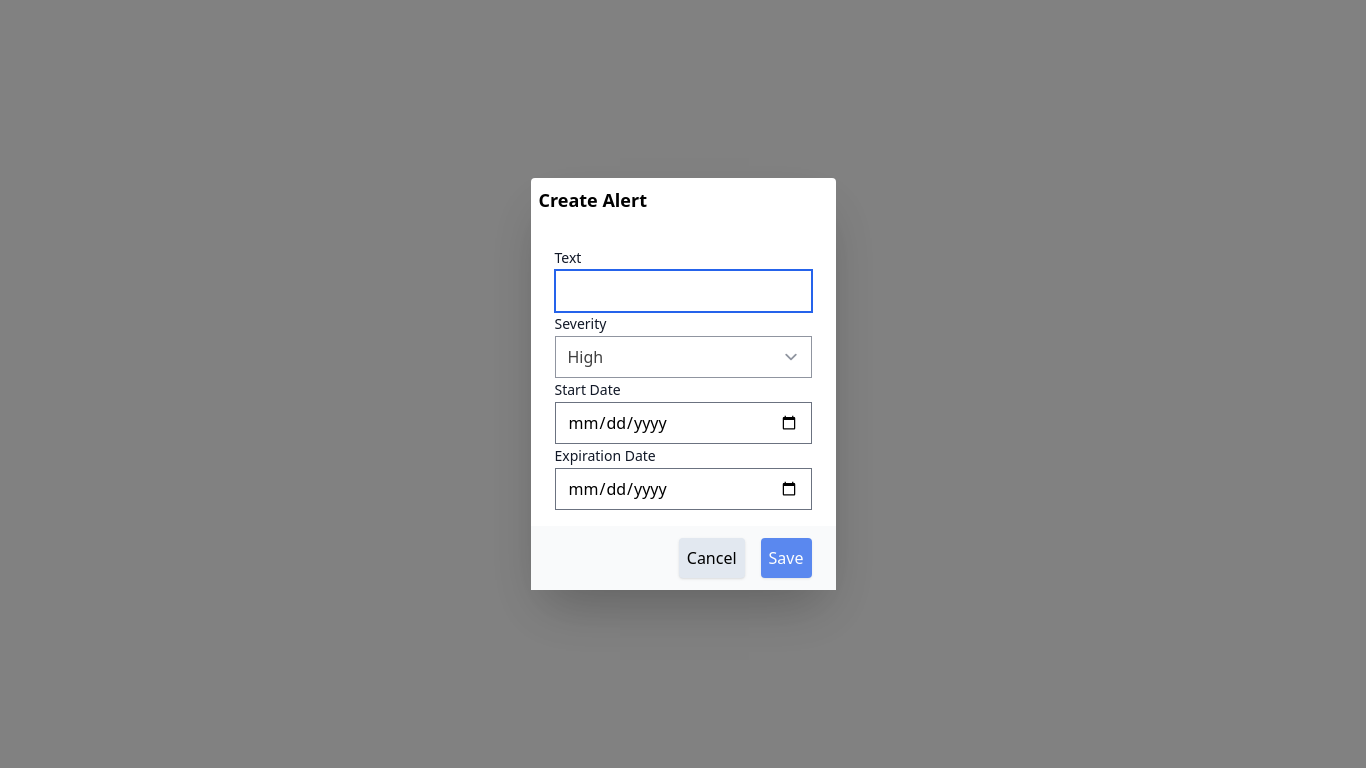
Test: CreateAlertModal › when saving the form is disabled
The width and height of the screenshot is (1366, 768).
In the field named "text": (683, 291) [554,270,812,312], type "fields are closed"
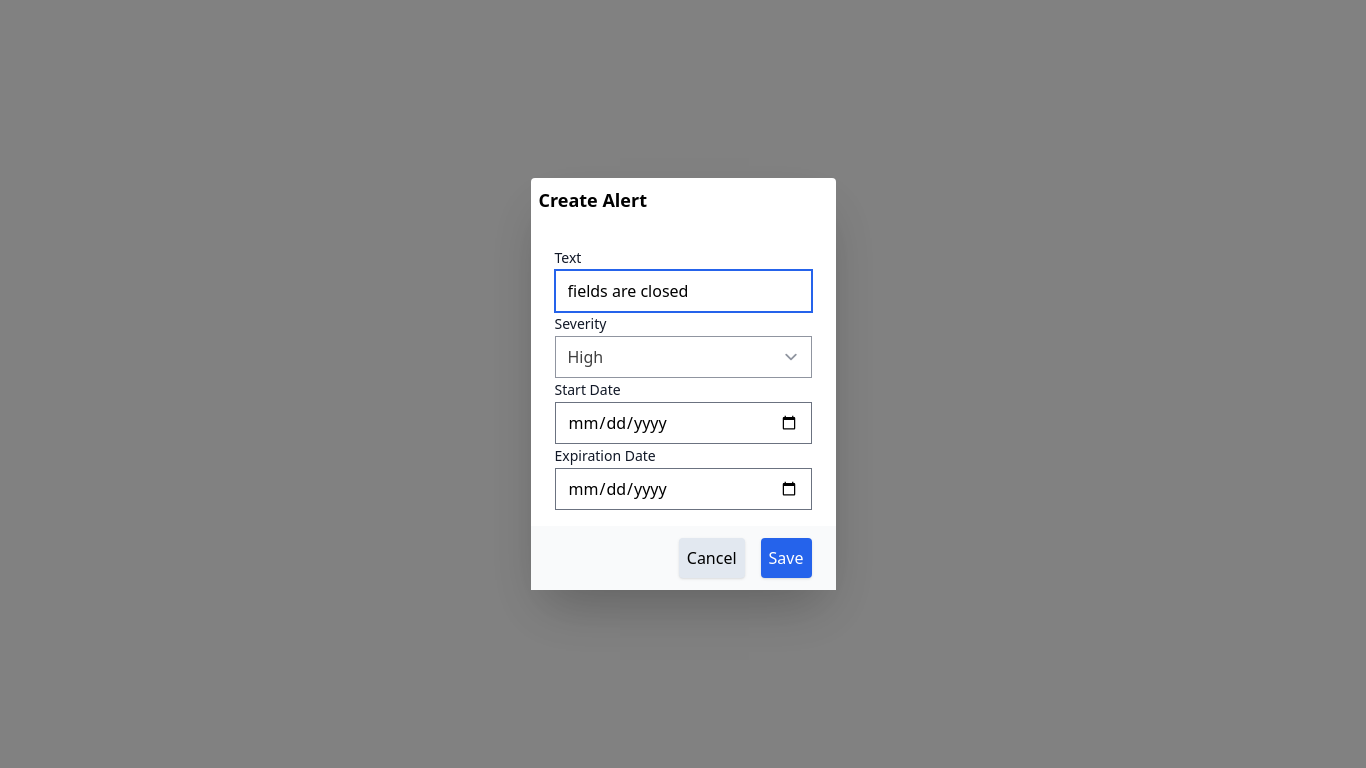
expect the button with aria-label "save button" is enabled: met
Click the button with aria-label "save button": (786, 558) [761,538,812,578]
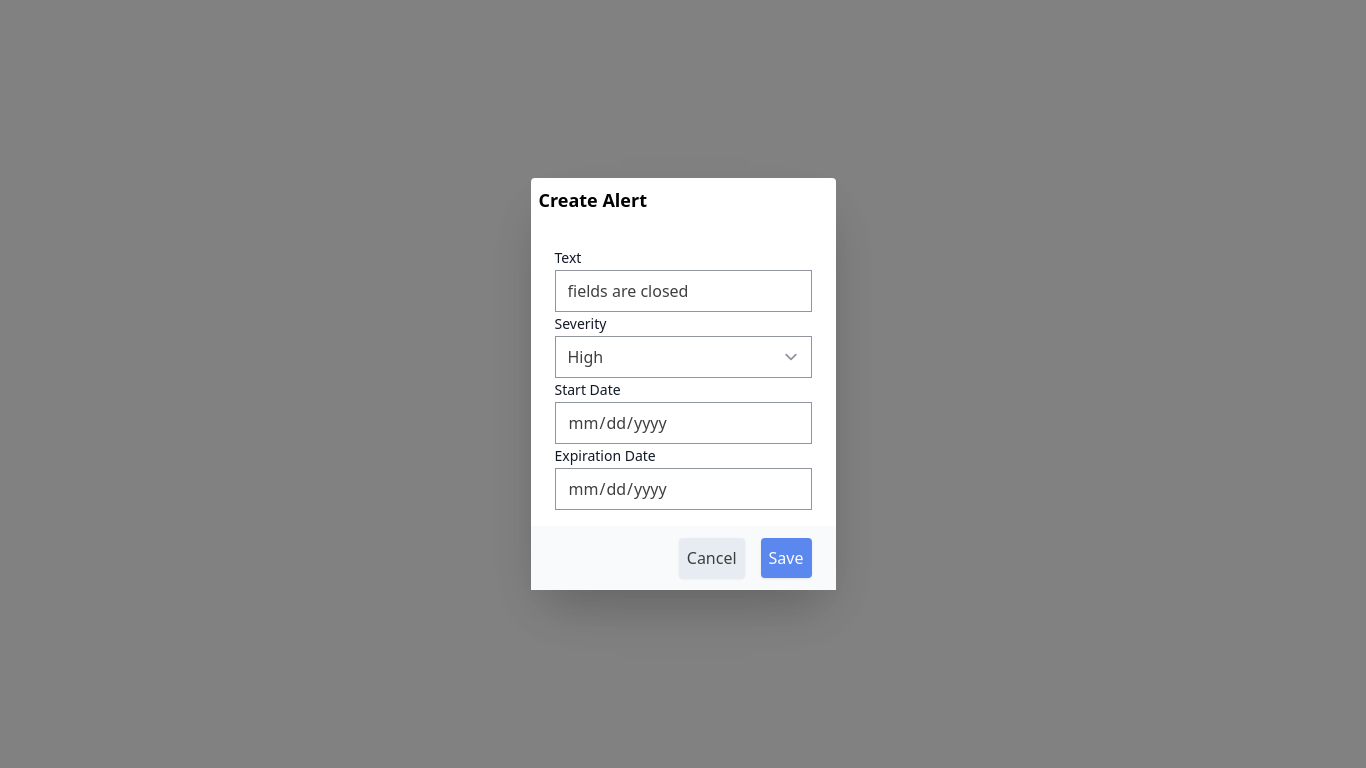
expect the field named "text" is disabled: met, box [554,270,812,312]
expect the date field named "start date" is disabled: met, box [554,402,812,444]
expect the date field named "expiration date" is disabled: met, box [554,468,812,510]
